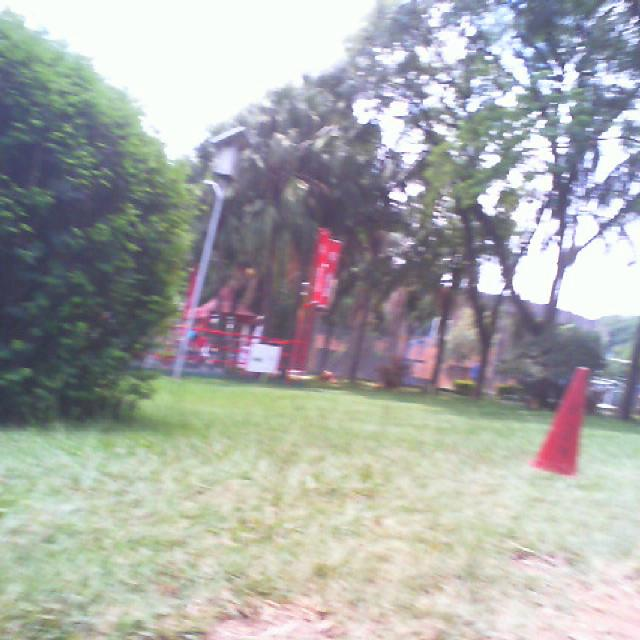cone: (529, 367, 590, 480)
